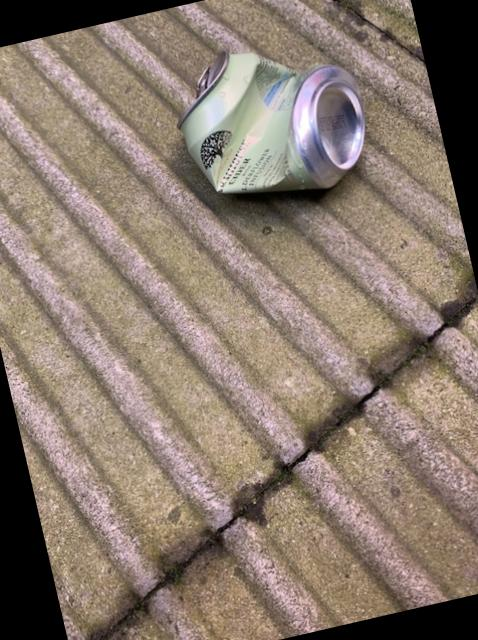metal: (176, 50, 363, 191)
